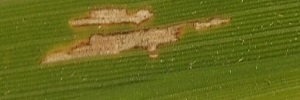RiceBacterialBlight: (45, 1, 234, 75)
